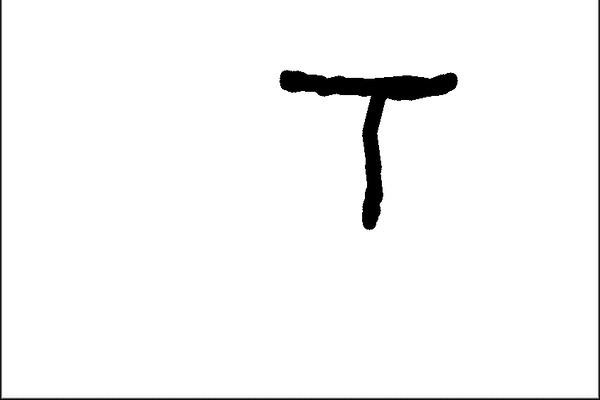T: (280, 55, 460, 239)
